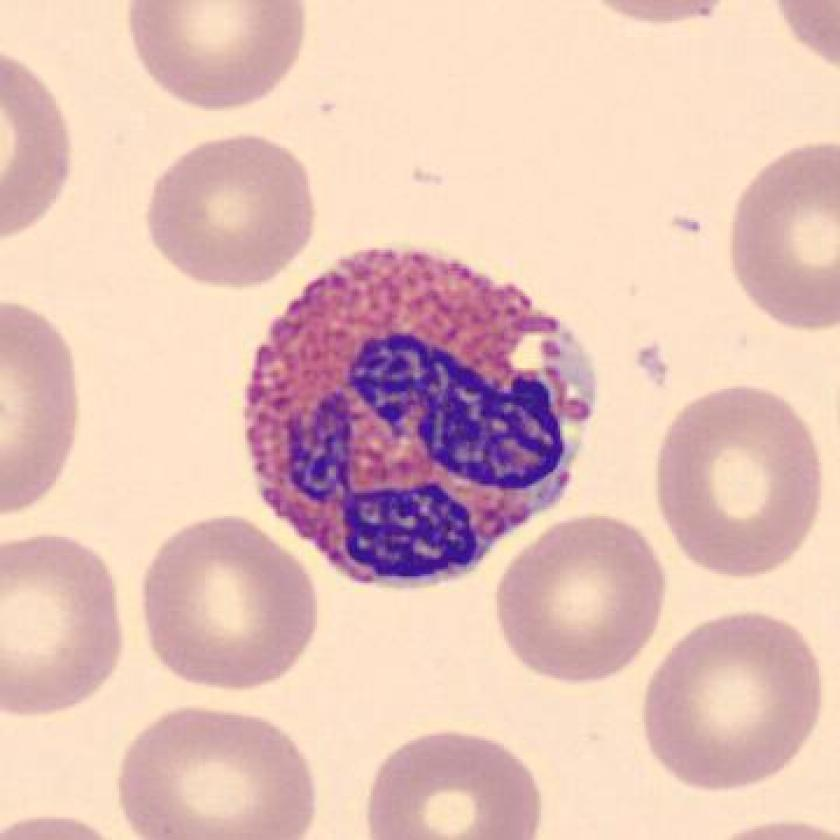eosinophil: (227, 235, 610, 598)
